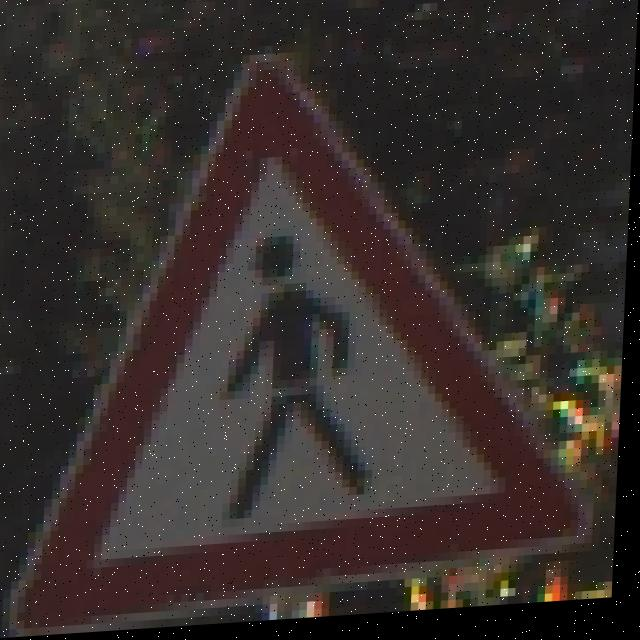crosswalk: (48, 73, 635, 612)
